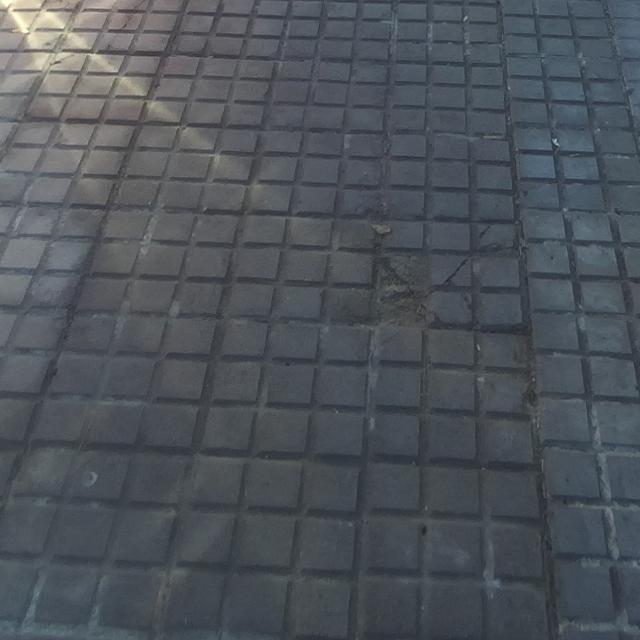calcada_quebrada: (436, 223, 493, 330)
